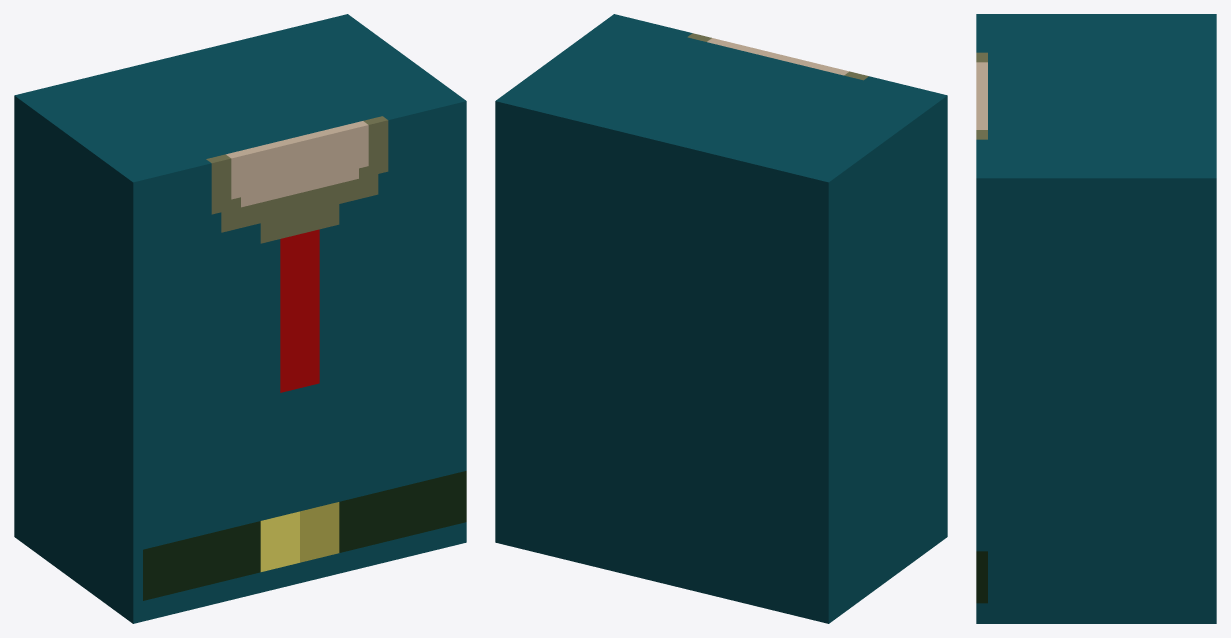
File: officeman-0.obj
3 renders of one model, left to right at view 1: azimuth 30°, elevation 25°; view 2: azimuth 150°, elevation 25°; view 3: azimuth 270°, elevation 25°, orthographic.
Bounding box in the file's own units: 3.4 × 4.3 × 2.1.
1 material, 1 textured.
